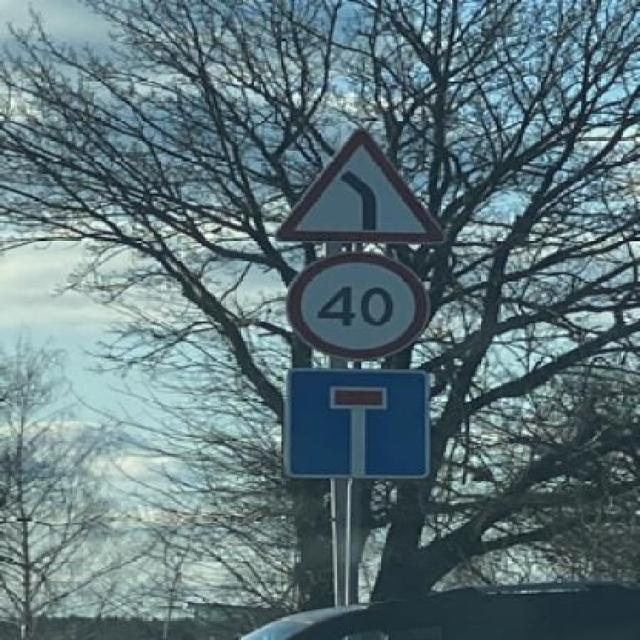forb_speed_over_40: (286, 250, 428, 358)
